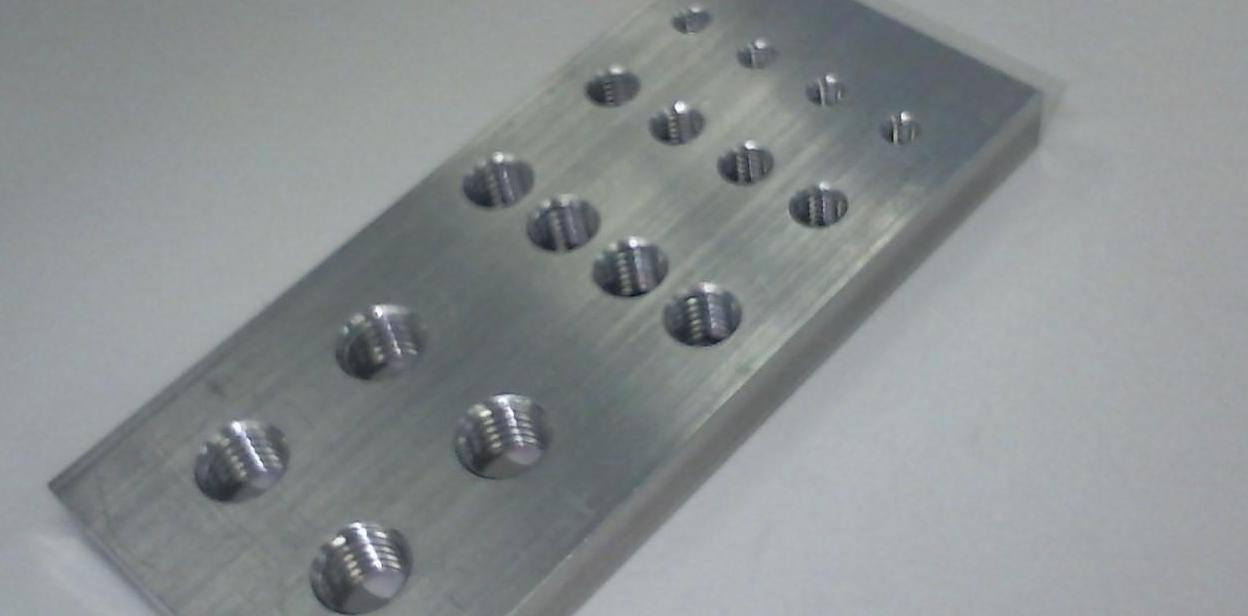hole: (290, 512, 412, 616), (178, 406, 294, 514), (327, 297, 439, 393), (445, 388, 560, 476), (650, 284, 747, 356), (512, 192, 608, 257), (585, 238, 671, 308), (458, 150, 544, 219), (705, 136, 779, 192), (782, 182, 852, 237), (646, 100, 708, 153), (584, 65, 643, 113), (881, 102, 927, 162), (734, 34, 780, 80), (804, 70, 846, 118), (670, 1, 715, 40)
